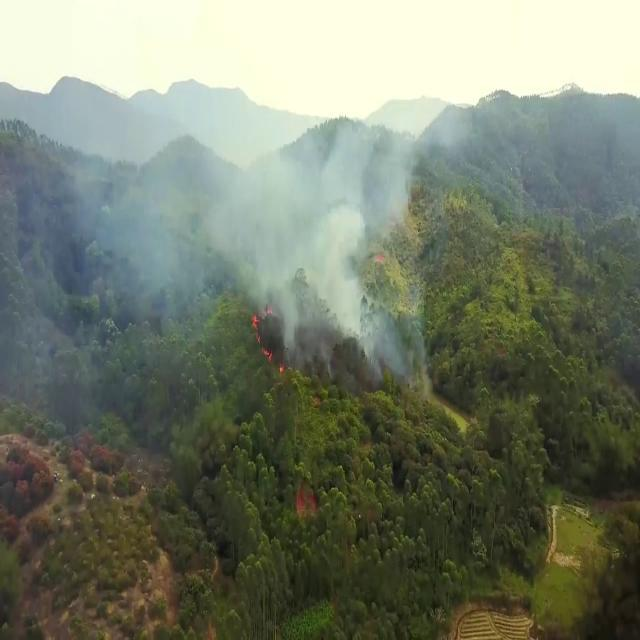Fire: (252, 306, 274, 362)
Smoke: (58, 52, 476, 400)
